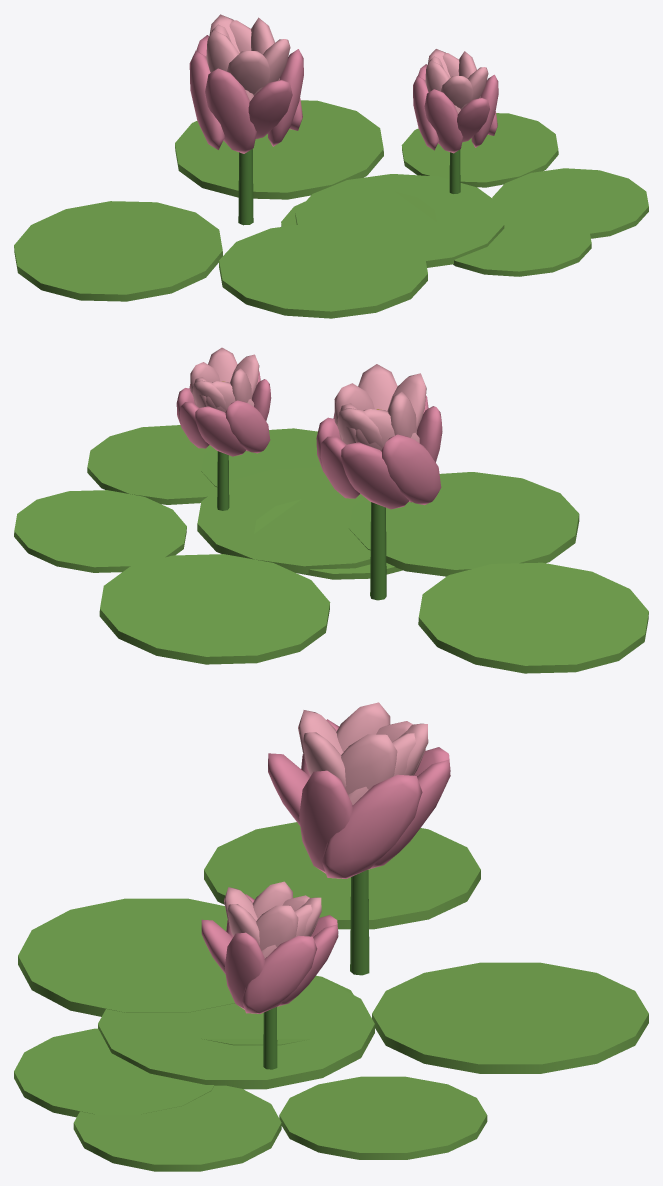
Rendered from LV_CUM_SEN_01.glb.
3 renders of one model, top to bottom at view 1: azimuth 30°, elevation 25°; view 2: azimuth 150°, elevation 25°; view 3: azimuth 270°, elevation 25°, orthographic. The views are drawn at different scales.
Parts seen in each view (by area): view 1: LV_CUM_SEN_01-surface-70a34b, LV_CUM_SEN_01-surface-d8839e, LV_CUM_SEN_01-surface-e6a3b1, LV_CUM_SEN_01-surface-53873a; view 2: LV_CUM_SEN_01-surface-70a34b, LV_CUM_SEN_01-surface-d8839e, LV_CUM_SEN_01-surface-e6a3b1, LV_CUM_SEN_01-surface-53873a; view 3: LV_CUM_SEN_01-surface-70a34b, LV_CUM_SEN_01-surface-d8839e, LV_CUM_SEN_01-surface-e6a3b1, LV_CUM_SEN_01-surface-53873a.
Part boxes in pixels (box(x1,y1,x2,y2)): LV_CUM_SEN_01-surface-70a34b: box(14, 100, 648, 318); LV_CUM_SEN_01-surface-d8839e: box(189, 35, 498, 153); LV_CUM_SEN_01-surface-e6a3b1: box(206, 14, 488, 113); LV_CUM_SEN_01-surface-53873a: box(238, 149, 460, 225); LV_CUM_SEN_01-surface-70a34b: box(14, 425, 648, 673); LV_CUM_SEN_01-surface-d8839e: box(176, 371, 442, 509); LV_CUM_SEN_01-surface-e6a3b1: box(190, 347, 426, 450); LV_CUM_SEN_01-surface-53873a: box(217, 451, 386, 600); LV_CUM_SEN_01-surface-70a34b: box(14, 822, 648, 1171); LV_CUM_SEN_01-surface-d8839e: box(201, 719, 450, 1013); LV_CUM_SEN_01-surface-e6a3b1: box(224, 702, 428, 958); LV_CUM_SEN_01-surface-53873a: box(263, 869, 369, 1069).
Bounding box in the file's own units: 2.03 × 0.6856 × 1.56.
